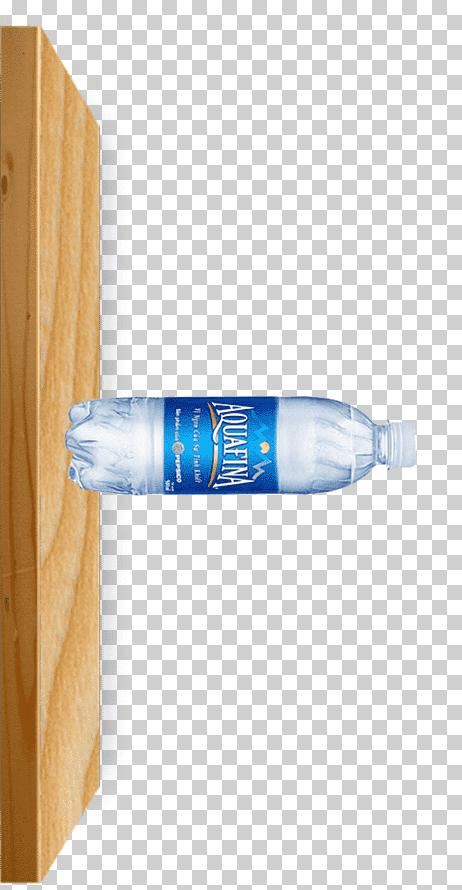bottle: (60, 381, 427, 504)
